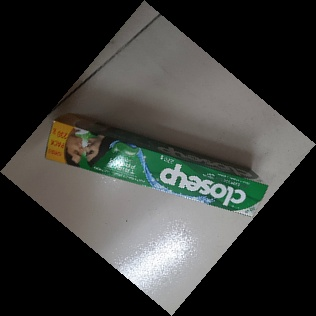CloseUp Xanh: (43, 114, 270, 219)
